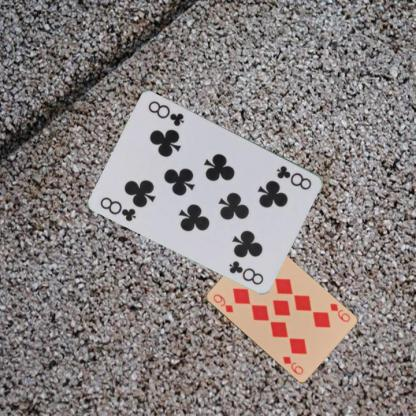8c: (98, 194, 138, 223), (274, 163, 313, 191)
9d: (327, 300, 351, 324), (210, 292, 235, 314)
